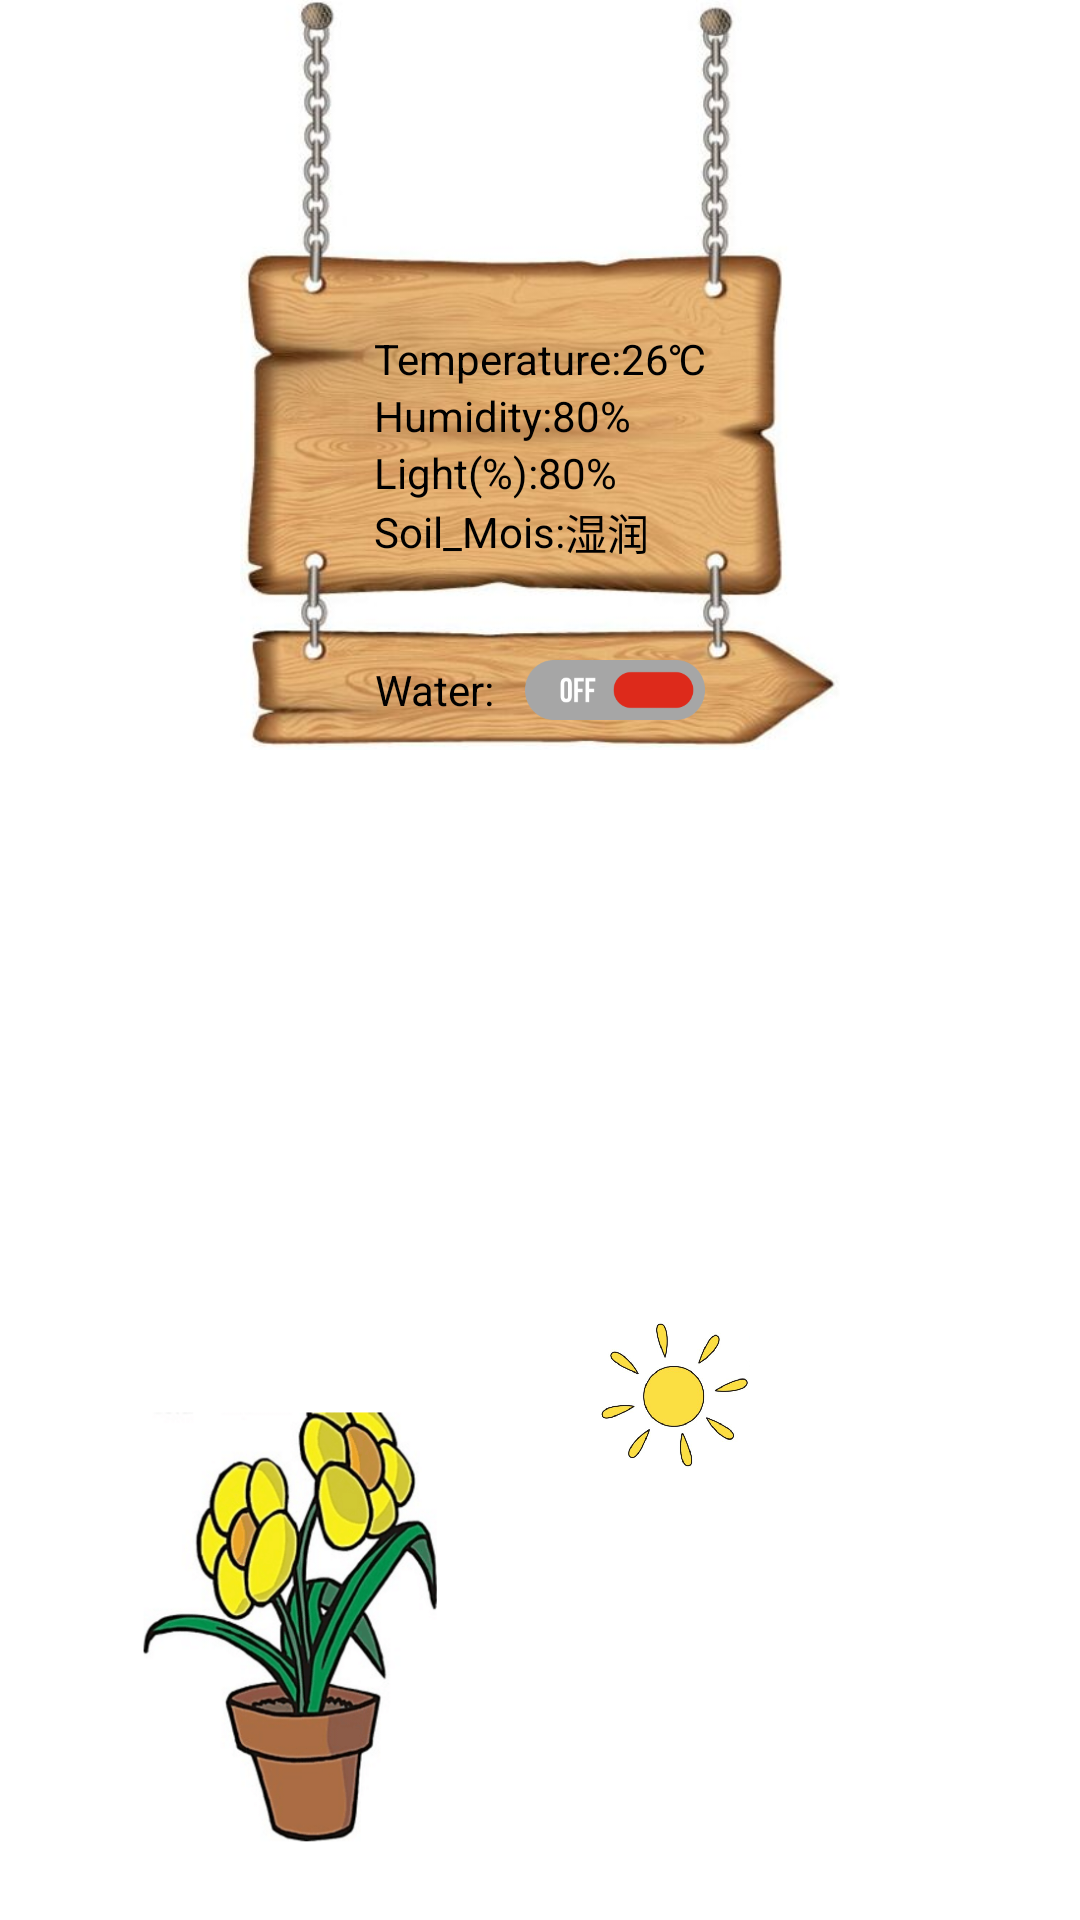

Named icons in this screenshot (1080px×1920px) and their bounding boxes, {"x1": x1, "y1": y1, "x2": x2, "y2": y2}:
sun: {"x1": 601, "y1": 1323, "x2": 748, "y2": 1467}
